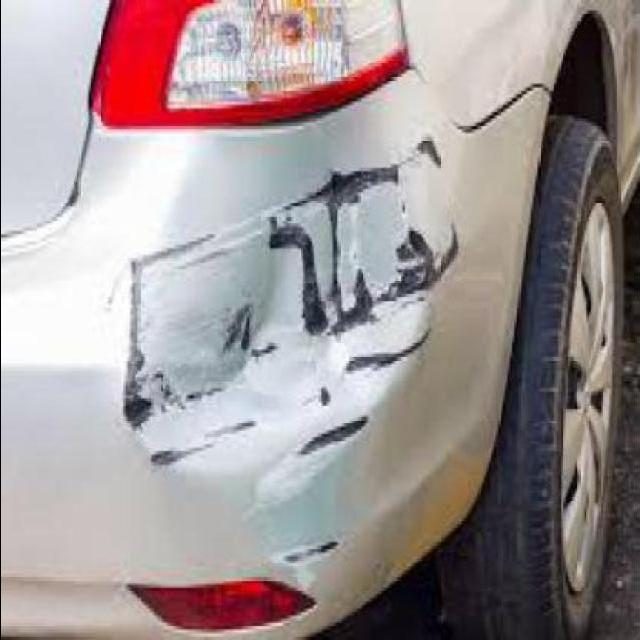rear-bumper-dent: (0, 56, 566, 623)
